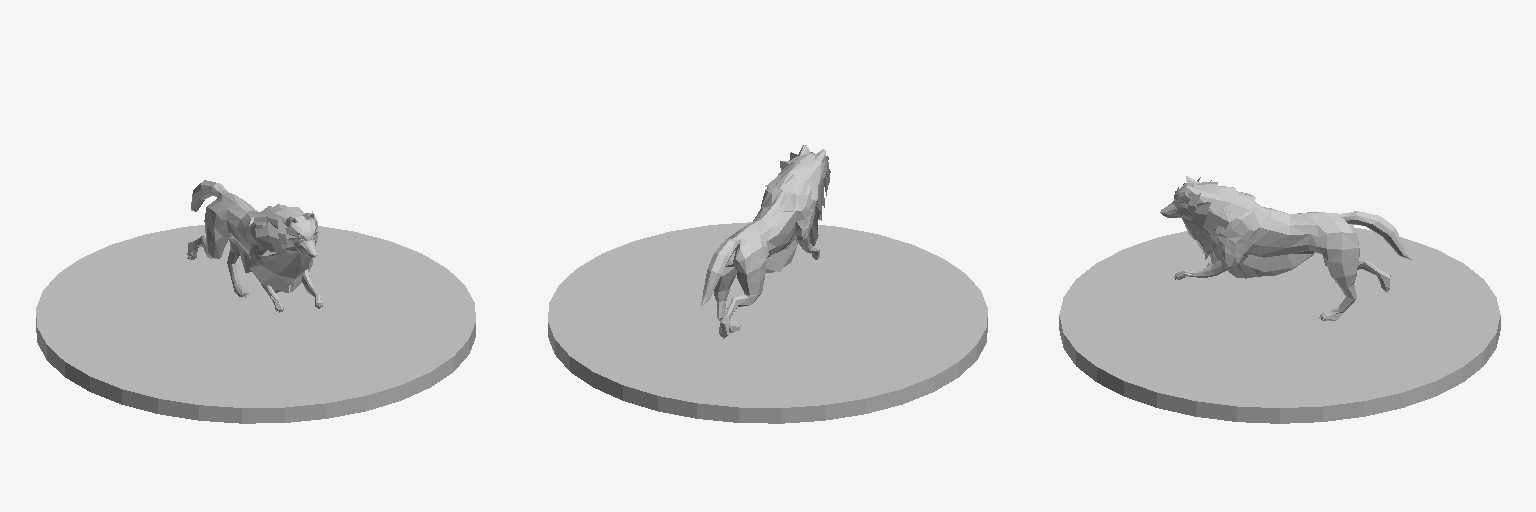
The model's file is Wolf_0013.obj.
3 renders of one model, left to right at view 1: azimuth 30°, elevation 25°; view 2: azimuth 150°, elevation 25°; view 3: azimuth 270°, elevation 25°, orthographic.
Parts seen in each view (by area): view 1: Circle, Wolf1_Material__wolf_col_tga_0, Wolf2_fur__fella3_jpg_001_0; view 2: Circle, Wolf1_Material__wolf_col_tga_0, Wolf2_fur__fella3_jpg_001_0; view 3: Circle, Wolf1_Material__wolf_col_tga_0, Wolf2_fur__fella3_jpg_001_0.
Boxes of the visible parts, x1=… form: Circle: x1=36, y1=225, x2=475, y2=423; Wolf1_Material__wolf_col_tga_0: x1=187, y1=180, x2=322, y2=311; Wolf2_fur__fella3_jpg_001_0: x1=237, y1=204, x2=318, y2=292; Circle: x1=548, y1=222, x2=987, y2=423; Wolf1_Material__wolf_col_tga_0: x1=701, y1=145, x2=826, y2=337; Wolf2_fur__fella3_jpg_001_0: x1=765, y1=152, x2=830, y2=272; Circle: x1=1059, y1=228, x2=1500, y2=423; Wolf1_Material__wolf_col_tga_0: x1=1160, y1=176, x2=1411, y2=320; Wolf2_fur__fella3_jpg_001_0: x1=1174, y1=177, x2=1313, y2=278.
Size of the model in its own units: 1.69 by 0.6303 by 1.69.